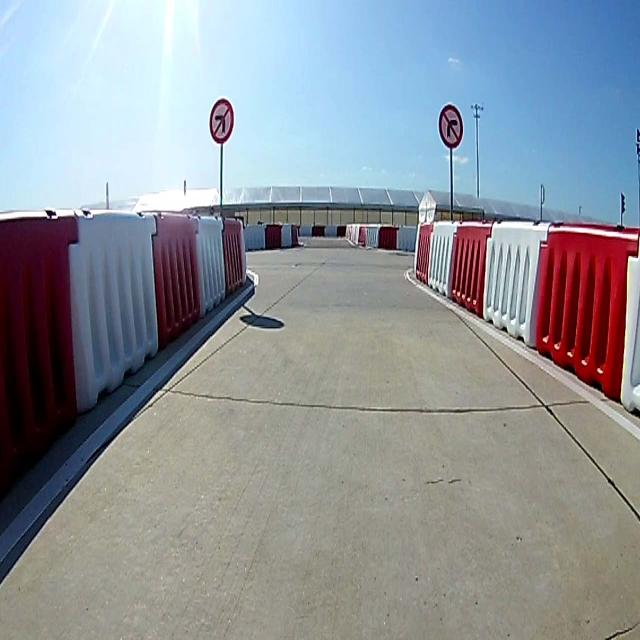sagadonulmez: (438, 103, 463, 145)
soladonulmez: (210, 99, 232, 143)
